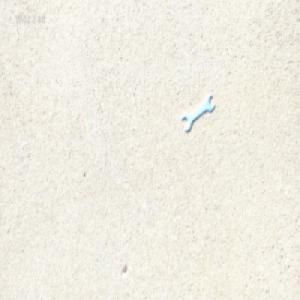Wrench: (180, 96, 211, 132)
